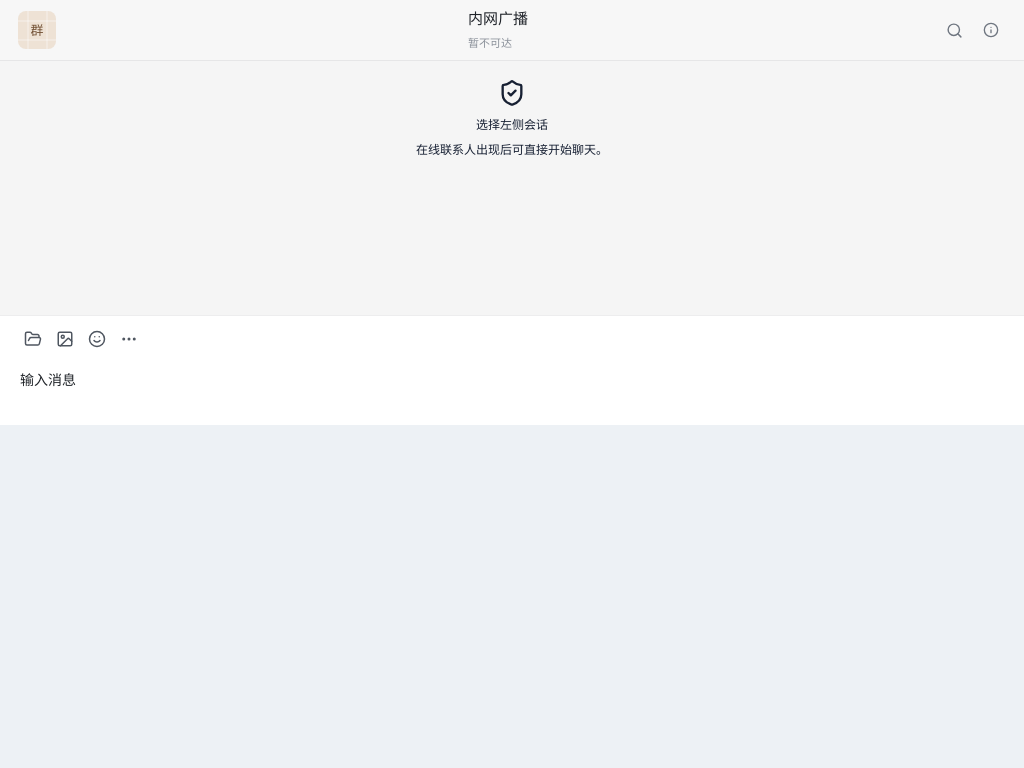
ChatWorkspace composer toolbar › opens the expression picker only by deliberate click, not by hover
The image size is (1024, 768).
Hover over the button named "表情" at [97, 339], box [82, 324, 112, 354]
Click the button named "表情" at [97, 339], box [82, 324, 112, 354]
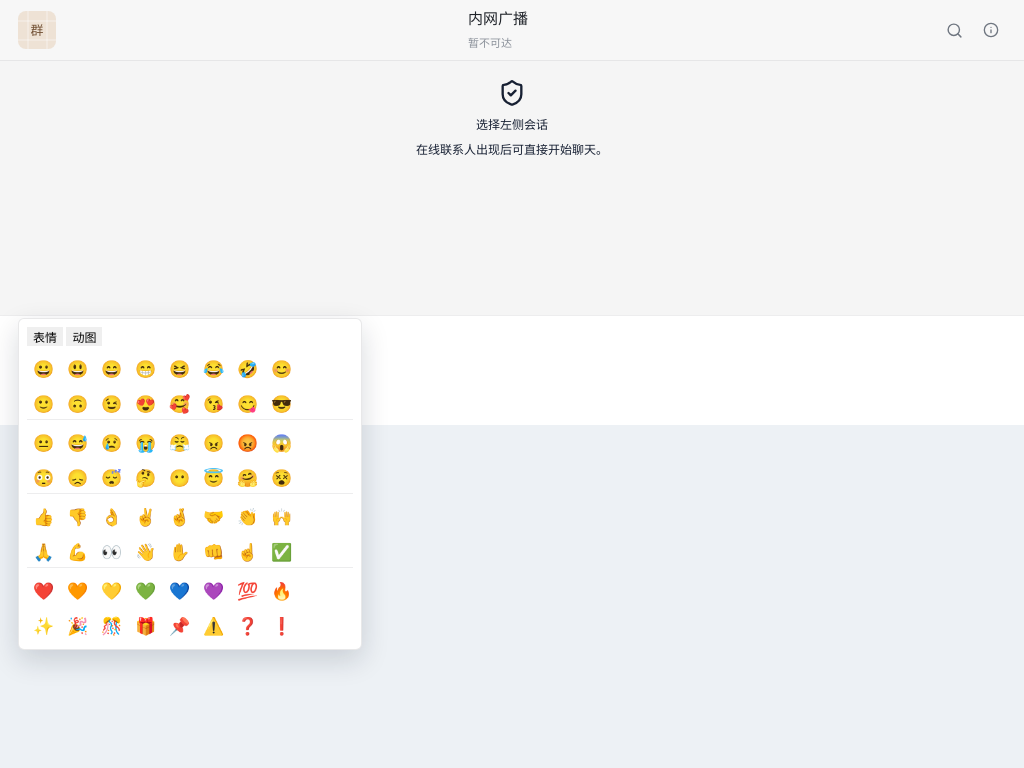
Now the button named "表情" is expanded, box [82, 324, 112, 354]
